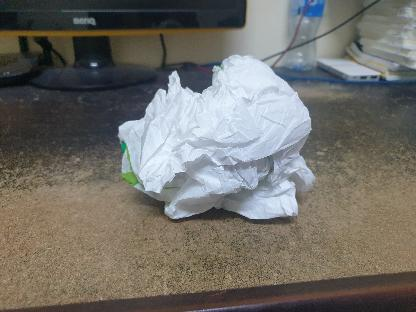Plastic Bag: (115, 50, 328, 236)
